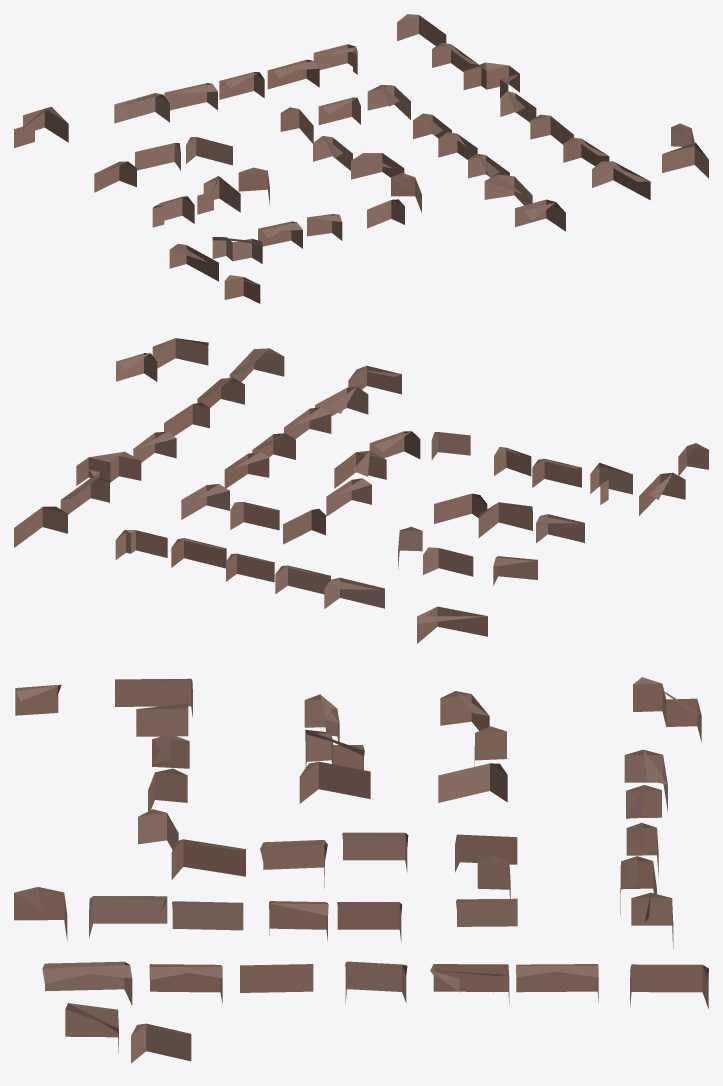
Rendered from c_1644_17834_buildings_residential.glb.
3 renders of one model, top to bottom at view 1: azimuth 30°, elevation 25°; view 2: azimuth 150°, elevation 25°; view 3: azimuth 270°, elevation 25°, orthographic. The views are drawn at different scales.
Visible parts, largest first — view 1: geometry_0; view 2: geometry_0; view 3: geometry_0.
Boxes of the visible parts, x1,y1,x2,y2 form: geometry_0: (14, 14, 708, 303); geometry_0: (14, 338, 708, 643); geometry_0: (14, 677, 708, 1063).
Size of the model in its own units: 256 by 10.68 by 205.
